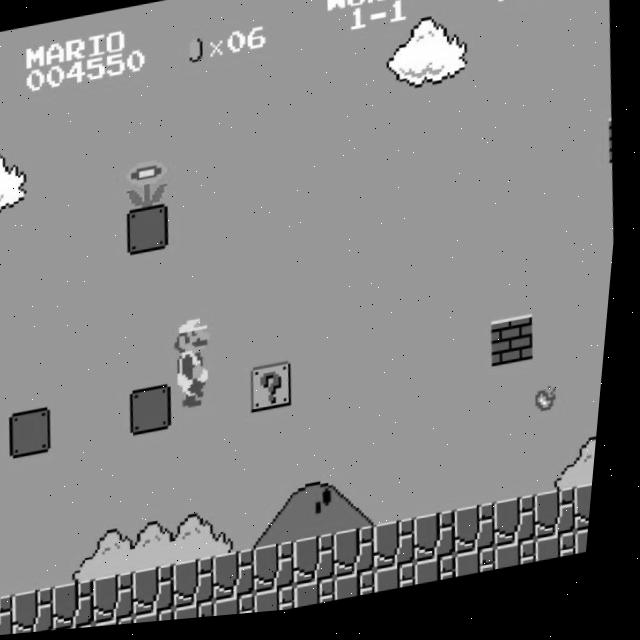1- brick_block: (494, 324, 544, 377), (608, 128, 619, 174)
13- mystery_block: (253, 365, 303, 419)
17- undestructible_block: (500, 504, 550, 558), (99, 574, 149, 627), (180, 560, 230, 613), (260, 546, 310, 599), (340, 532, 390, 585), (420, 518, 470, 571), (460, 511, 510, 564), (59, 581, 109, 633), (140, 567, 189, 620), (220, 553, 269, 606), (300, 539, 349, 592), (380, 525, 429, 578), (541, 497, 590, 550), (19, 587, 68, 636), (303, 584, 348, 614), (344, 577, 389, 607), (383, 570, 428, 600), (424, 563, 469, 593), (464, 557, 509, 587), (504, 549, 549, 579), (544, 542, 589, 572), (263, 590, 308, 618), (0, 594, 28, 638), (580, 492, 602, 544), (223, 598, 268, 621), (184, 605, 228, 624), (144, 612, 188, 627), (104, 619, 148, 630), (583, 537, 599, 565)
3- empty_block: (13, 407, 63, 460), (133, 386, 183, 439), (127, 206, 176, 258)
4- fire_mario: (168, 314, 228, 416)
5- fireball: (541, 393, 566, 422)
6- flower: (123, 158, 175, 214)
